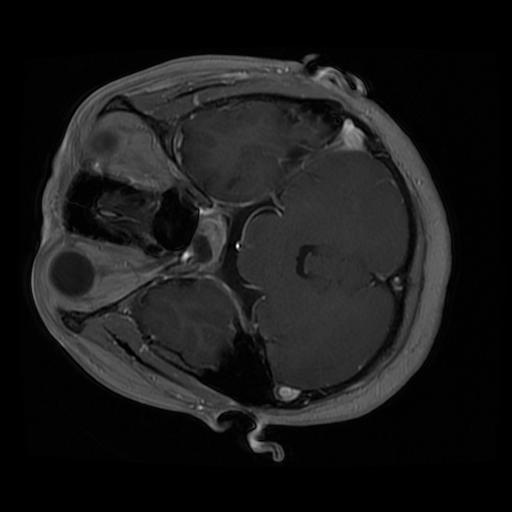pituitary tumour: (181, 209, 228, 271)
